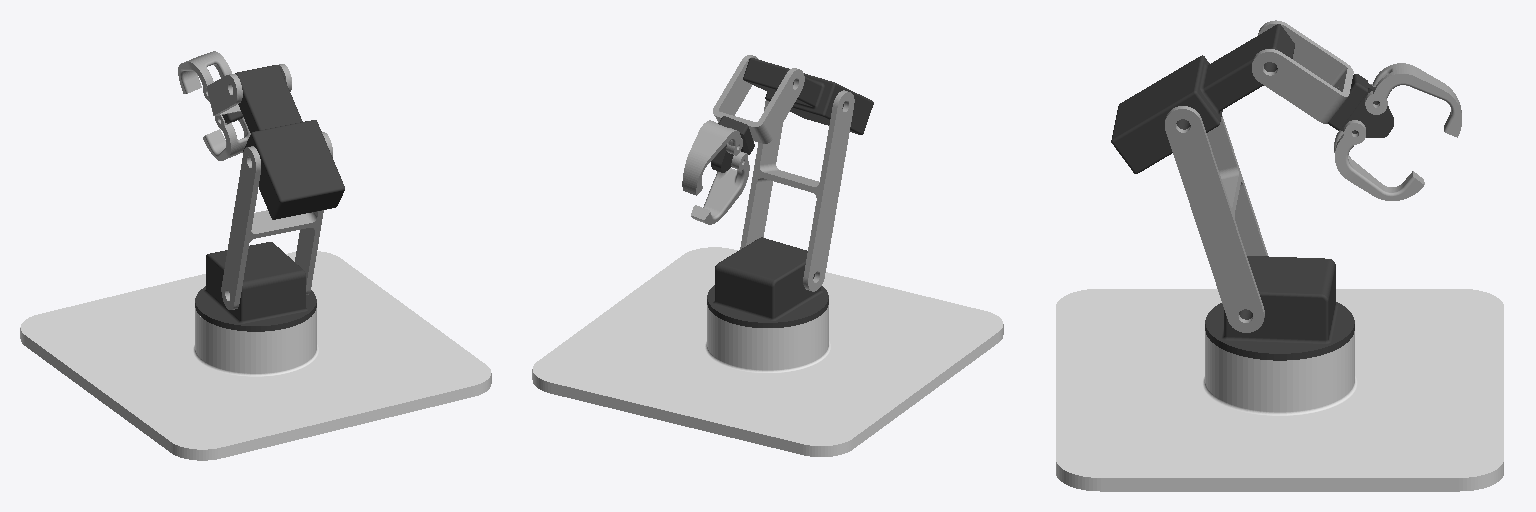
robot.urdf — onshape:
<robot name="onshape">
<link name="base_0">
<visual>
<origin xyz="0.0135299 -0.0318221 0.0270018" rpy="0 -0 0" />
<geometry>
<mesh filename="package://robot_arm_description/description/meshes/base_0.stl"/>
</geometry>
<material name="base_0_material">
<color rgba="0.901961 0.901961 0.901961 1.0"/>
</material>
</visual>
<collision>
<origin xyz="0.0135299 -0.0318221 0.0270018" rpy="0 -0 0" />
<geometry>
<mesh filename="package://robot_arm_description/description/meshes/base_0.stl"/>
</geometry>
<material name="base_0_material">
<color rgba="0.901961 0.901961 0.901961 1.0"/>
</material>
</collision>
<inertial>
<origin xyz="0.0135299 -0.0318221 0.0385116" rpy="0 0 0"/>
<mass value="13.6949" />
<inertia ixx="0.0792427" ixy="0"  ixz="0" iyy="0.0792427" iyz="0" izz="0.15407" />
</inertial>
</link>

<link name="link_1">
<visual>
<origin xyz="-3.46945e-18 0 -1.38778e-17" rpy="-3.14159 1.57772e-30 -8.55114e-30" />
<geometry>
<mesh filename="package://robot_arm_description/description/meshes/link_1.stl"/>
</geometry>
<material name="link_1_material">
<color rgba="0.301961 0.301961 0.301961 1.0"/>
</material>
</visual>
<collision>
<origin xyz="-3.46945e-18 0 -1.38778e-17" rpy="-3.14159 1.57772e-30 -8.55114e-30" />
<geometry>
<mesh filename="package://robot_arm_description/description/meshes/link_1.stl"/>
</geometry>
<material name="link_1_material">
<color rgba="0.301961 0.301961 0.301961 1.0"/>
</material>
</collision>
<inertial>
<origin xyz="-5.42837e-18 -0.000520977 -0.0180037" rpy="0 0 0"/>
<mass value="0.190313" />
<inertia ixx="0.000114447" ixy="1.58827e-21"  ixz="3.3139e-34" iyy="9.87873e-05" iyz="-6.93671e-07" izz="0.00015658" />
</inertial>
</link>

<link name="link_2">
<visual>
<origin xyz="-1.38778e-17 -3.46945e-18 -0.005" rpy="7.45876e-20 2.37475e-16 0" />
<geometry>
<mesh filename="package://robot_arm_description/description/meshes/link_2.stl"/>
</geometry>
<material name="link_2_material">
<color rgba="0.701961 0.701961 0.701961 1.0"/>
</material>
</visual>
<collision>
<origin xyz="-1.38778e-17 -3.46945e-18 -0.005" rpy="7.45876e-20 2.37475e-16 0" />
<geometry>
<mesh filename="package://robot_arm_description/description/meshes/link_2.stl"/>
</geometry>
<material name="link_2_material">
<color rgba="0.701961 0.701961 0.701961 1.0"/>
</material>
</collision>
<inertial>
<origin xyz="-0.0725 -5.89855e-18 0.03" rpy="0 0 0"/>
<mass value="0.0501009" />
<inertia ixx="4.95322e-05" ixy="-1.63097e-39"  ixz="-9.76842e-21" iyy="0.000136375" iyz="2.5937e-21" izz="9.20791e-05" />
</inertial>
</link>

<link name="link_3">
<visual>
<origin xyz="-0.02 0.015 -0.06" rpy="1.5708 3.84792e-18 -5.55112e-17" />
<geometry>
<mesh filename="package://robot_arm_description/description/meshes/link_3.stl"/>
</geometry>
<material name="link_3_material">
<color rgba="0.301961 0.301961 0.301961 1.0"/>
</material>
</visual>
<collision>
<origin xyz="-0.02 0.015 -0.06" rpy="1.5708 3.84792e-18 -5.55112e-17" />
<geometry>
<mesh filename="package://robot_arm_description/description/meshes/link_3.stl"/>
</geometry>
<material name="link_3_material">
<color rgba="0.301961 0.301961 0.301961 1.0"/>
</material>
</collision>
<inertial>
<origin xyz="-0.00170607 -4.16334e-17 -0.03" rpy="0 0 0"/>
<mass value="0.174007" />
<inertia ixx="5.55698e-05" ixy="-5.42237e-22"  ixz="1.21136e-20" iyy="0.000250889" iyz="5.85069e-21" izz="0.000218218" />
</inertial>
</link>

<link name="link_4">
<visual>
<origin xyz="2.77556e-17 2.77556e-17 -0.005" rpy="-1.5708 3.97259e-19 -1.11022e-16" />
<geometry>
<mesh filename="package://robot_arm_description/description/meshes/link_4.stl"/>
</geometry>
<material name="link_4_material">
<color rgba="0.701961 0.701961 0.701961 1.0"/>
</material>
</visual>
<collision>
<origin xyz="2.77556e-17 2.77556e-17 -0.005" rpy="-1.5708 3.97259e-19 -1.11022e-16" />
<geometry>
<mesh filename="package://robot_arm_description/description/meshes/link_4.stl"/>
</geometry>
<material name="link_4_material">
<color rgba="0.701961 0.701961 0.701961 1.0"/>
</material>
</collision>
<inertial>
<origin xyz="6.96886e-18 0.0297296 0.02" rpy="0 0 0"/>
<mass value="0.0205597" />
<inertia ixx="1.70662e-05" ixy="1.36232e-22"  ixz="-1.05509e-21" iyy="9.75081e-06" iyz="1.60585e-22" izz="9.50338e-06" />
</inertial>
</link>

<link name="link_5">
<visual>
<origin xyz="-2.77556e-17 0.0125 -0.02" rpy="0 -0 1.38778e-17" />
<geometry>
<mesh filename="package://robot_arm_description/description/meshes/link_5.stl"/>
</geometry>
<material name="link_5_material">
<color rgba="0.301961 0.301961 0.301961 1.0"/>
</material>
</visual>
<collision>
<origin xyz="-2.77556e-17 0.0125 -0.02" rpy="0 -0 1.38778e-17" />
<geometry>
<mesh filename="package://robot_arm_description/description/meshes/link_5.stl"/>
</geometry>
<material name="link_5_material">
<color rgba="0.301961 0.301961 0.301961 1.0"/>
</material>
</collision>
<inertial>
<origin xyz="-4.06527e-05 0 -0.0137723" rpy="0 0 0"/>
<mass value="0.0170175" />
<inertia ixx="2.46126e-06" ixy="8.22217e-23"  ixz="-1.32604e-08" iyy="3.46344e-06" iyz="-1.84025e-25" izz="2.06606e-06" />
</inertial>
</link>

<link name="gripper">
<visual>
<origin xyz="0 -2.77556e-17 0.0175" rpy="3.14159 -1.38778e-17 1.11022e-16" />
<geometry>
<mesh filename="package://robot_arm_description/description/meshes/gripper.stl"/>
</geometry>
<material name="gripper_material">
<color rgba="0.701961 0.701961 0.701961 1.0"/>
</material>
</visual>
<collision>
<origin xyz="0 -2.77556e-17 0.0175" rpy="3.14159 -1.38778e-17 1.11022e-16" />
<geometry>
<mesh filename="package://robot_arm_description/description/meshes/gripper.stl"/>
</geometry>
<material name="gripper_material">
<color rgba="0.701961 0.701961 0.701961 1.0"/>
</material>
</collision>
<inertial>
<origin xyz="0.0157231 -0.021422 0.00500002" rpy="0 0 0"/>
<mass value="0.0148636" />
<inertia ixx="6.7702e-06" ixy="4.37184e-07"  ixz="-2.64266e-11" iyy="2.12396e-06" iyz="1.60637e-13" izz="7.41346e-06" />
</inertial>
</link>

<joint name="revolute_6" type="revolute">
<origin xyz="0.0125 0.005 -0.02" rpy="1.5708 -0.0752809 3.31229e-15" />
<parent link="link_5" />
<child link="gripper" />
<axis xyz="0 0 1"/>
<limit effort="50" velocity="6.2832" lower="-0.349066" upper="0.349066"/>
<joint_properties friction="0.0"/>
</joint>

<link name="gripper_2">
<visual>
<origin xyz="0 1.38778e-17 0.0175" rpy="3.14159 -2.77556e-17 -5.55112e-17" />
<geometry>
<mesh filename="package://robot_arm_description/description/meshes/gripper.stl"/>
</geometry>
<material name="gripper_material">
<color rgba="0.701961 0.701961 0.701961 1.0"/>
</material>
</visual>
<collision>
<origin xyz="0 1.38778e-17 0.0175" rpy="3.14159 -2.77556e-17 -5.55112e-17" />
<geometry>
<mesh filename="package://robot_arm_description/description/meshes/gripper.stl"/>
</geometry>
<material name="gripper_material">
<color rgba="0.701961 0.701961 0.701961 1.0"/>
</material>
</collision>
<inertial>
<origin xyz="0.0157231 -0.021422 0.00500002" rpy="0 0 0"/>
<mass value="0.0148636" />
<inertia ixx="6.7702e-06" ixy="4.37184e-07"  ixz="-2.64266e-11" iyy="2.12396e-06" iyz="1.60637e-13" izz="7.41346e-06" />
</inertial>
</link>

<joint name="revolute_7" type="revolute">
<origin xyz="-0.0125 -0.005 -0.02" rpy="1.5708 -0.168497 3.14159" />
<parent link="link_5" />
<child link="gripper_2" />
<axis xyz="0 0 1"/>
<limit effort="50" velocity="6.2832" lower="-0.349066" upper="0.349066"/>
<joint_properties friction="0.0"/>
</joint>

<joint name="revolute_5" type="revolute">
<origin xyz="8.32667e-17 0.055 0.02" rpy="-1.5708 0.18499 3.14159" />
<parent link="link_4" />
<child link="link_5" />
<axis xyz="0 0 1"/>
<limit effort="50" velocity="6.2832" lower="-3.14159" upper="3.14159"/>
<joint_properties friction="0.0"/>
</joint>

<joint name="revolute_4" type="revolute">
<origin xyz="-0.07 3.88578e-16 -0.05" rpy="8.04062e-15 -1.98329e-15 2.77636" />
<parent link="link_3" />
<child link="link_4" />
<axis xyz="0 0 1"/>
<limit effort="50" velocity="6.2832" lower="-2.26893" upper="2.26893"/>
<joint_properties friction="0.0"/>
</joint>

<joint name="revolute_3" type="revolute">
<origin xyz="-0.145 -1.21431e-16 3.29597e-17" rpy="-3.14159 5.50297e-16 -1.26013" />
<parent link="link_2" />
<child link="link_3" />
<axis xyz="0 0 1"/>
<limit effort="50" velocity="6.2832" lower="-2.26893" upper="2.26893"/>
<joint_properties friction="0.0"/>
</joint>

<joint name="revolute_2" type="revolute">
<origin xyz="-0.03 0.02 -0.025" rpy="-1.5708 -1.27671 -1.5708" />
<parent link="link_1" />
<child link="link_2" />
<axis xyz="0 0 1"/>
<limit effort="50" velocity="6.2832" lower="-1.5708" upper="1.5708"/>
<joint_properties friction="0.0"/>
</joint>

<joint name="revolute_1" type="revolute">
<origin xyz="0.0135299 -0.0318221 0.0770018" rpy="-3.14159 -5.44111e-15 -0.0846342" />
<parent link="base_0" />
<child link="link_1" />
<axis xyz="0 0 1"/>
<limit effort="50" velocity="6.2832" lower="-6.28319" upper="6.28319"/>
<joint_properties friction="0.0"/>
</joint>


</robot>

--- Facts derived from the render (not from the file) ---
The picture shows the robot from 3 angles, left to right: view 1: azimuth 30°, elevation 25°; view 2: azimuth 150°, elevation 25°; view 3: azimuth 270°, elevation 25°; orthographic projection.
Model onshape with 8 links and 7 joints (7 revolute), rooted at base_0, posed every joint at zero.
Visible links, largest first — view 1: base_0, link_3, link_1, link_2, gripper_2, link_4, gripper; view 2: base_0, link_1, link_2, link_3, link_4, gripper_2, gripper, link_5; view 3: base_0, link_2, link_1, link_3, link_4, gripper_2, gripper, link_5.
Boxes of the visible links, bbox=[...] form: base_0: bbox=[20, 251, 491, 460]; link_3: bbox=[235, 65, 344, 219]; link_1: bbox=[195, 242, 316, 331]; link_2: bbox=[221, 132, 332, 309]; gripper_2: bbox=[178, 51, 231, 101]; link_4: bbox=[206, 64, 291, 115]; gripper: bbox=[203, 115, 250, 160]; base_0: bbox=[532, 247, 1003, 456]; link_1: bbox=[707, 237, 828, 327]; link_2: bbox=[740, 90, 854, 291]; link_3: bbox=[743, 58, 873, 134]; link_4: bbox=[713, 55, 804, 143]; gripper_2: bbox=[682, 120, 742, 195]; gripper: bbox=[691, 151, 749, 224]; link_5: bbox=[711, 116, 754, 172]; base_0: bbox=[1056, 289, 1503, 491]; link_2: bbox=[1165, 106, 1267, 332]; link_1: bbox=[1205, 256, 1354, 360]; link_3: bbox=[1111, 24, 1294, 173]; link_4: bbox=[1252, 20, 1353, 123]; gripper_2: bbox=[1365, 63, 1461, 137]; gripper: bbox=[1334, 120, 1424, 200]; link_5: bbox=[1328, 74, 1393, 137].
Size in the robot's own frame: 0.3 by 0.3 by 0.2667 metres.
8 mesh visuals loaded from 7 distinct referenced files (7 binary STL).